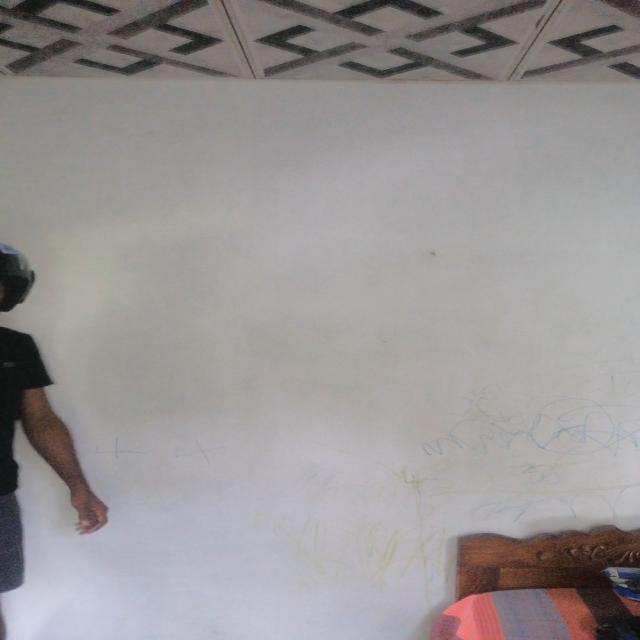Person: (0, 224, 116, 640)
